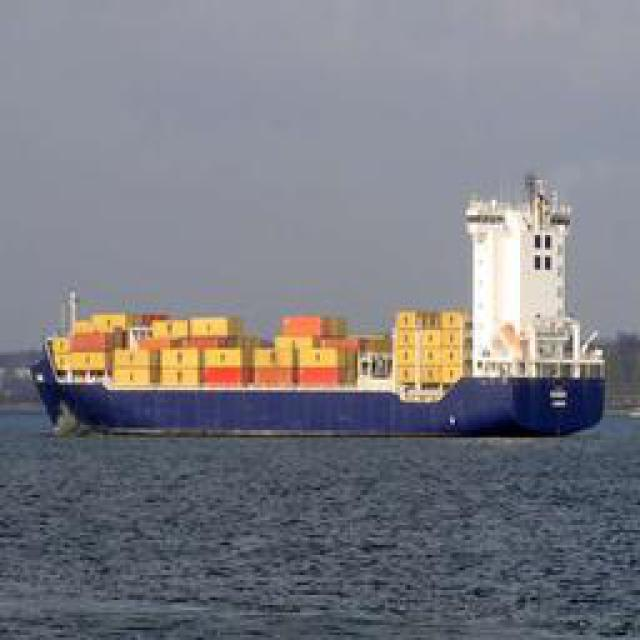Ship: (35, 300, 600, 440)
